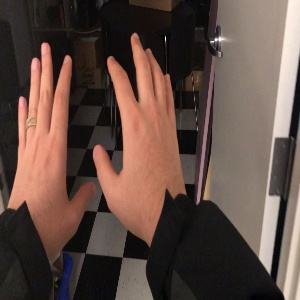hand: (12, 44, 95, 232), (92, 34, 184, 202)
